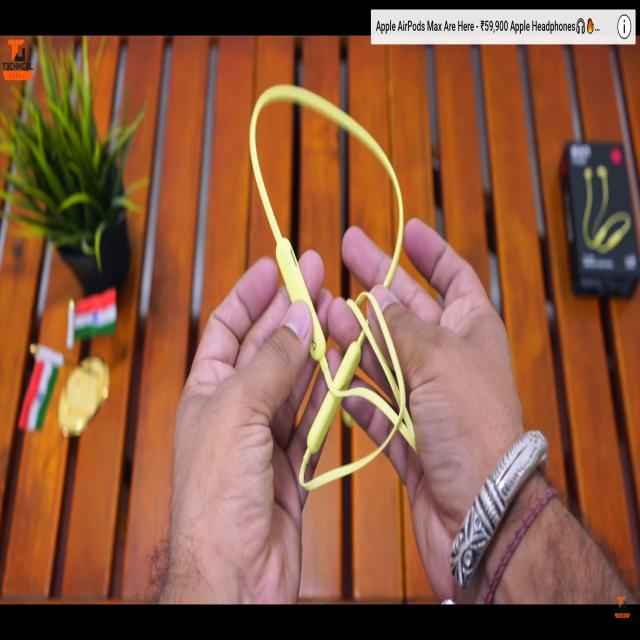Neckband: (250, 84, 420, 492)
